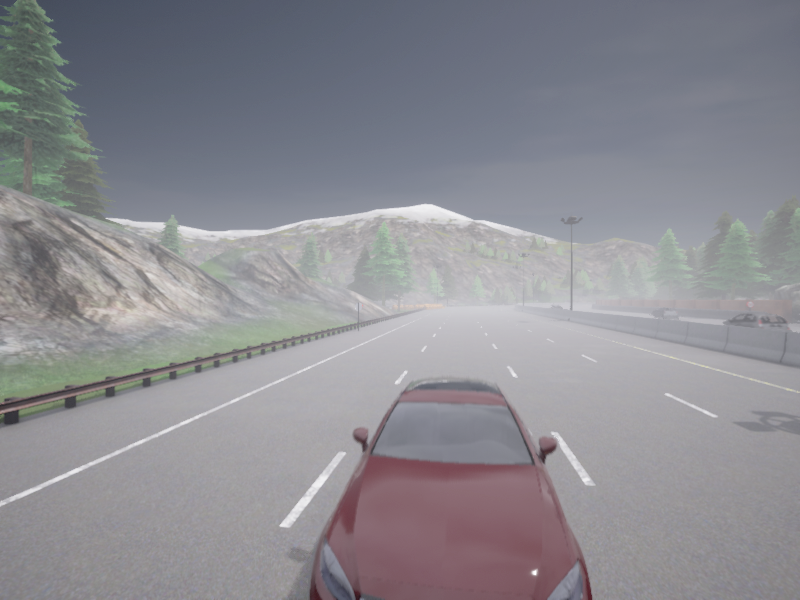vehicle: (309, 375, 592, 599), (721, 313, 791, 331), (651, 307, 677, 319), (548, 305, 561, 308)
